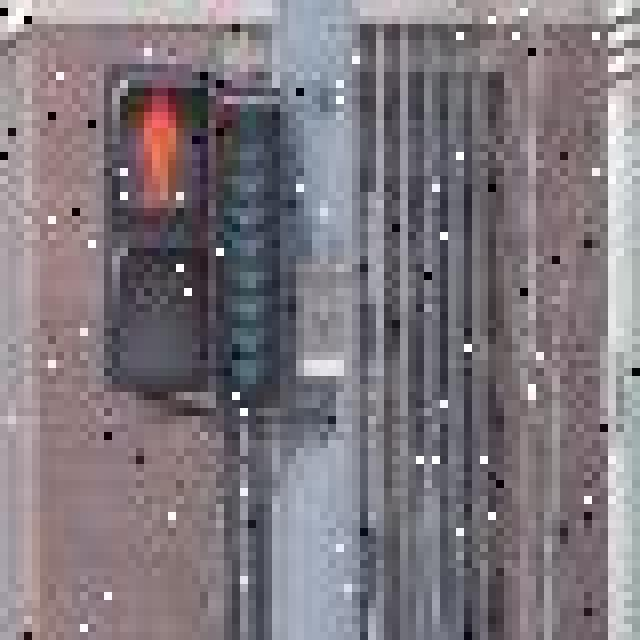redlight: (102, 66, 212, 391)
